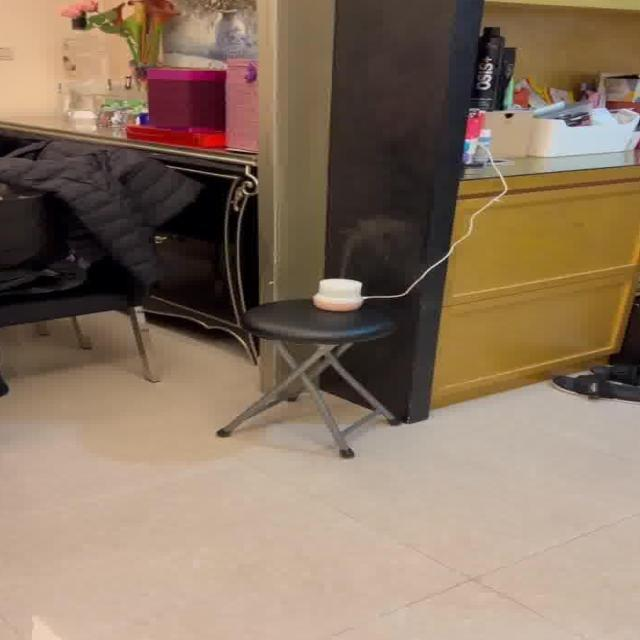fire: (340, 213, 412, 274)
